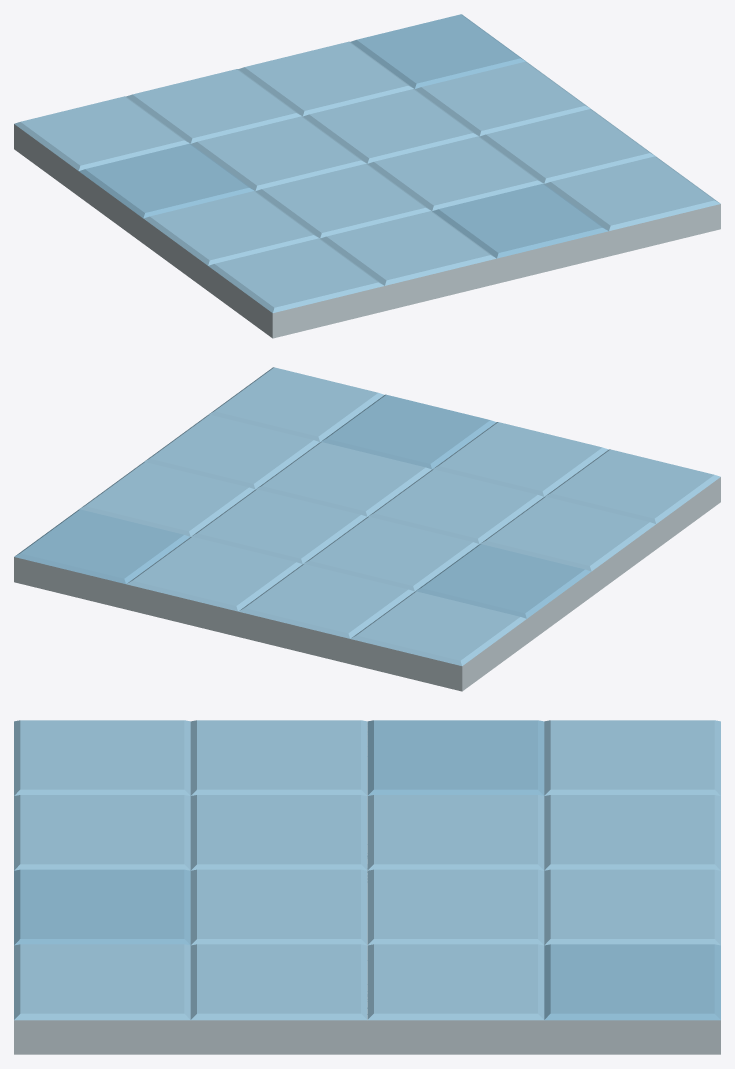
File: wg_boden_bad_b.glb
The picture shows the model from 3 angles, top to bottom: view 1: azimuth 30°, elevation 25°; view 2: azimuth 150°, elevation 25°; view 3: azimuth 270°, elevation 25°; orthographic projection. The views are drawn at different scales.
Visible parts, largest first — view 1: wg_boden_bad_b; view 2: wg_boden_bad_b; view 3: wg_boden_bad_b.
Part boxes in pixels (x1,y1,x2,y2): wg_boden_bad_b: (14, 14, 720, 338); wg_boden_bad_b: (14, 367, 720, 691); wg_boden_bad_b: (14, 720, 720, 1054).
Size of the model in its own units: 1 by 0.06 by 1.
